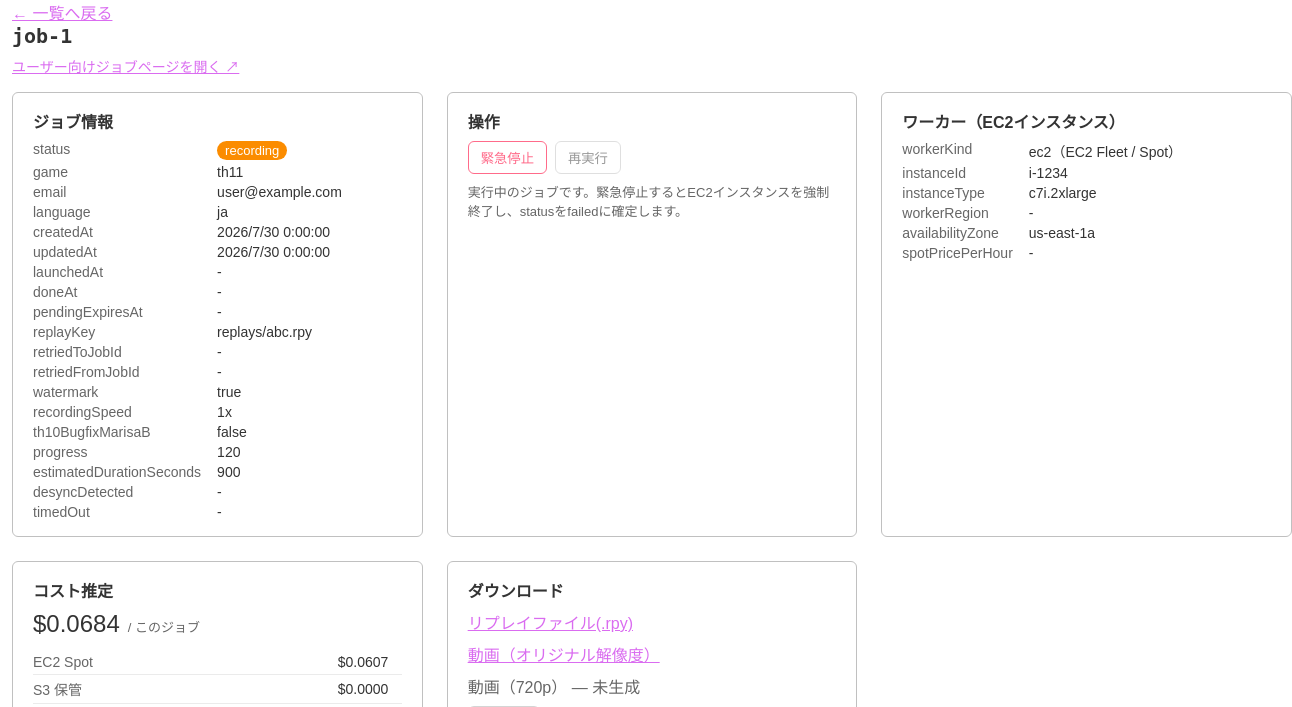
Test: JobDetailPage › 操作パネル(Issue #59) › 停止に成功したら結果を表示し、ジョブ詳細を取り直す
What coordinates should you click on to do the following:
click the button "緊急停止"
I would click on:
 (507, 158)
Its box is x1=468 y1=141 x2=547 y2=174.
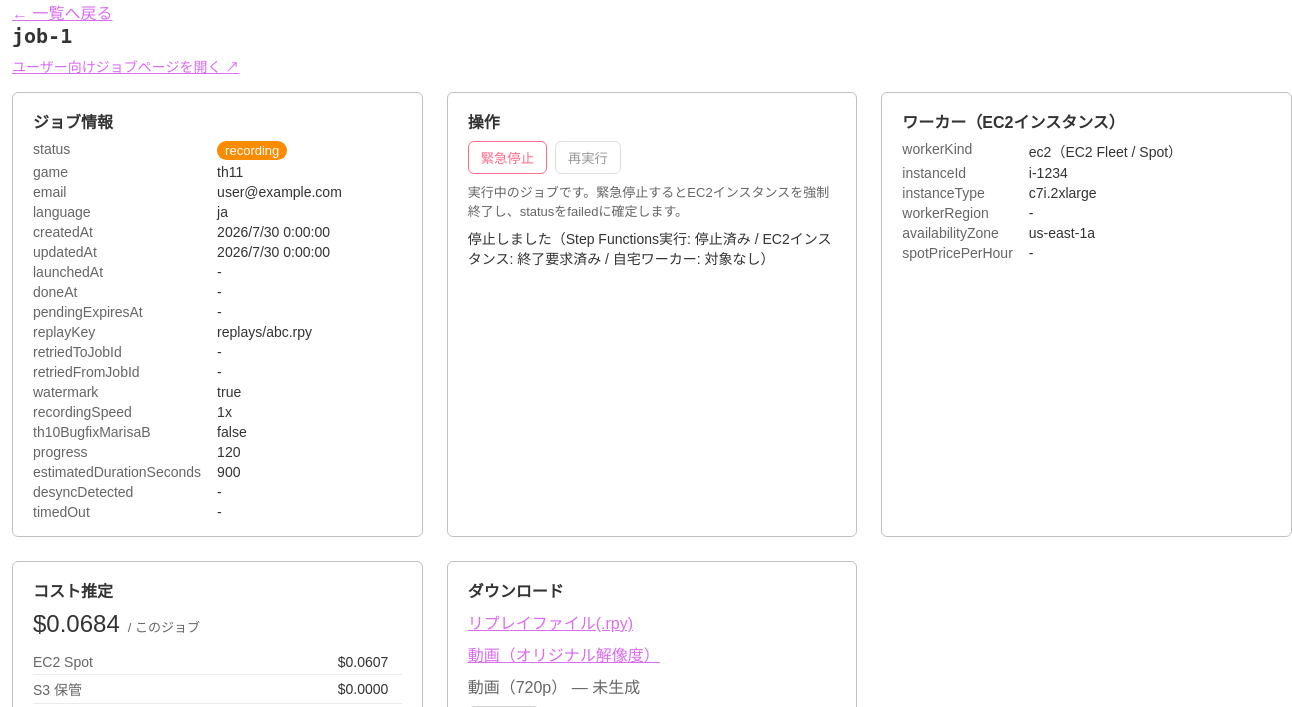
Expected: the text "停止しました" is shown, x1=468 y1=231 x2=832 y2=267
